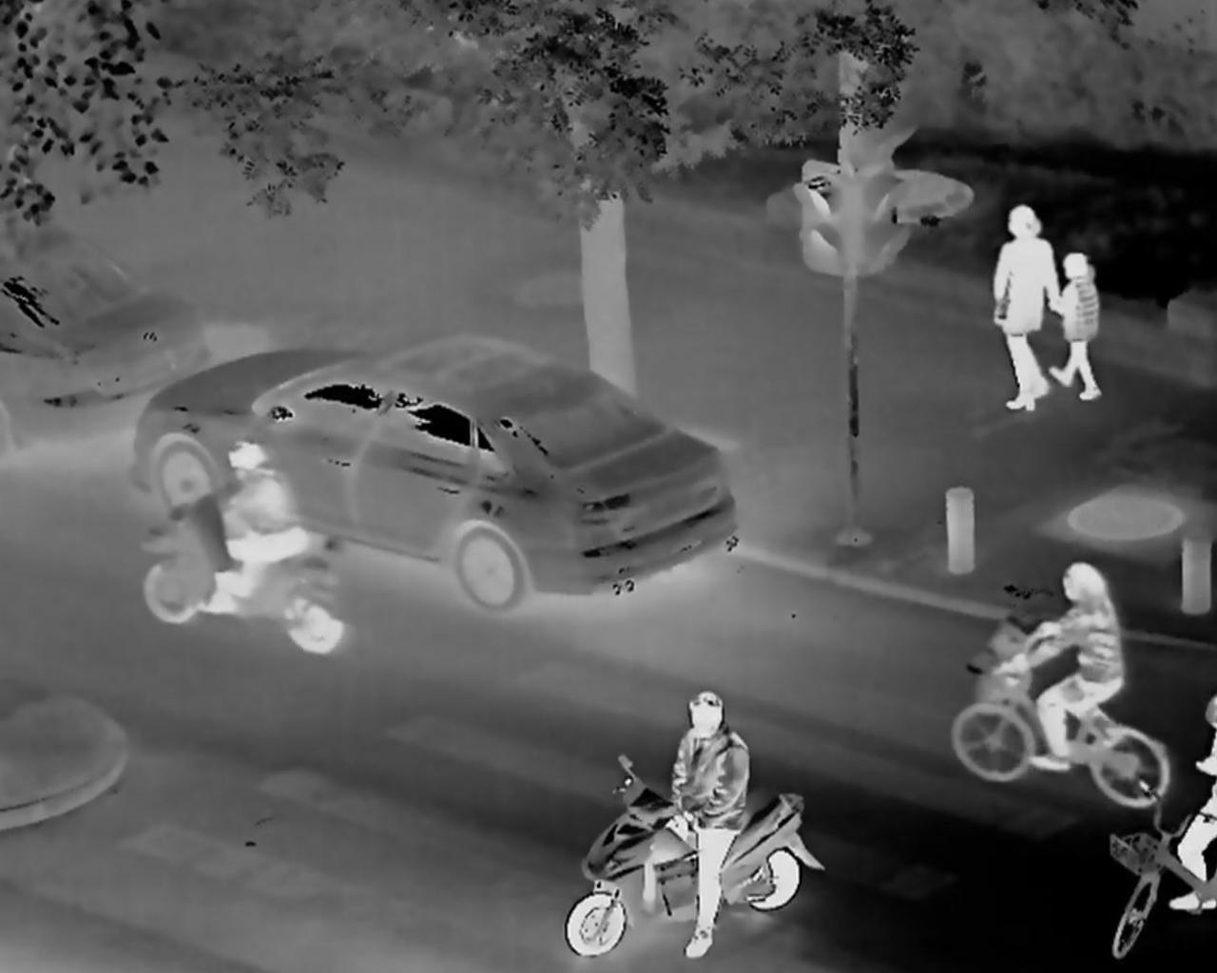person: (653, 690, 754, 957), (1015, 557, 1127, 775), (205, 440, 314, 611), (994, 202, 1050, 410), (1179, 687, 1217, 905), (1055, 246, 1099, 404)
